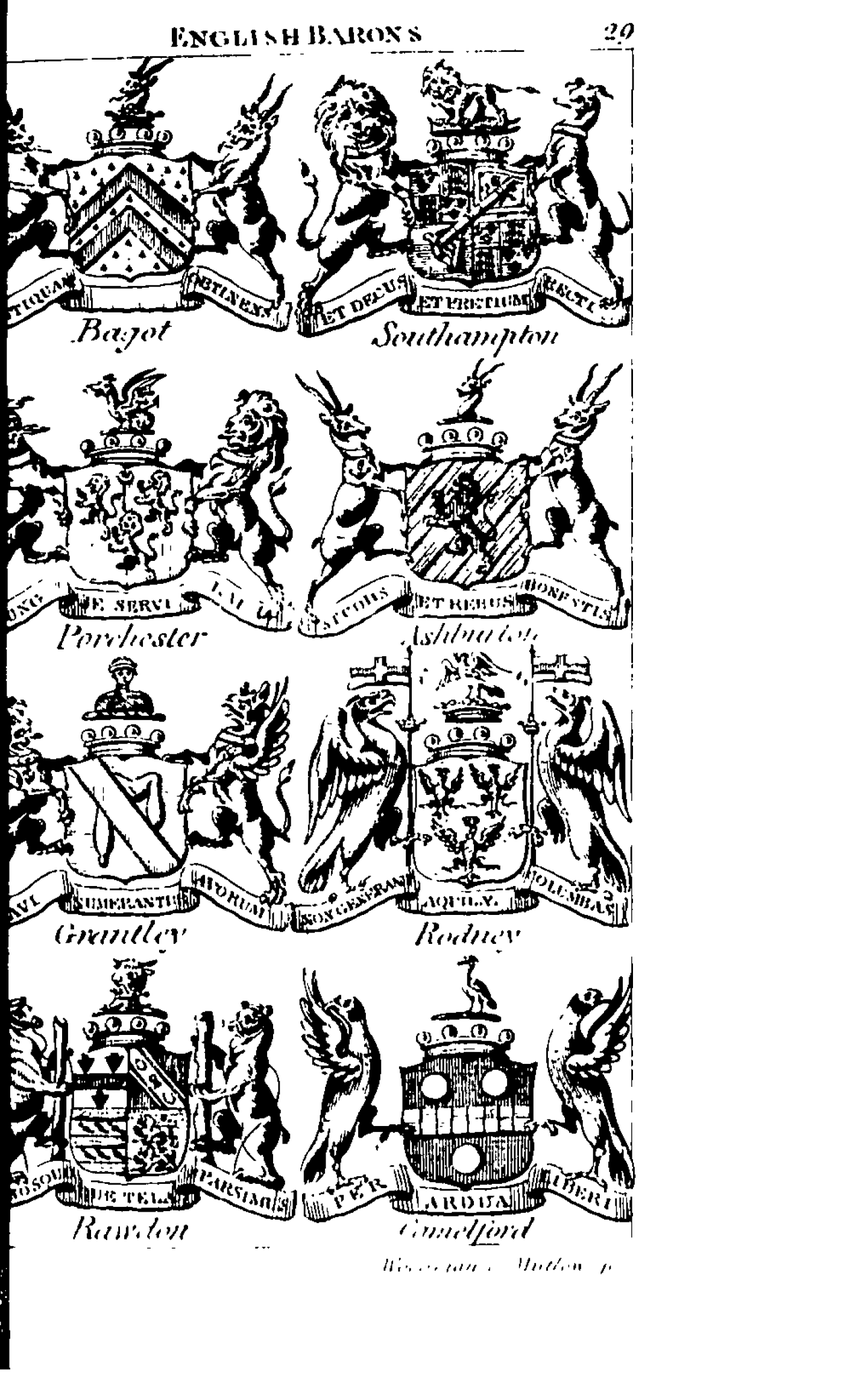coat_of_arms: (295, 647, 628, 960), (296, 57, 635, 356), (291, 958, 639, 1246), (302, 357, 636, 648), (8, 358, 300, 662), (13, 663, 290, 967), (7, 62, 296, 352), (8, 954, 289, 1249)
